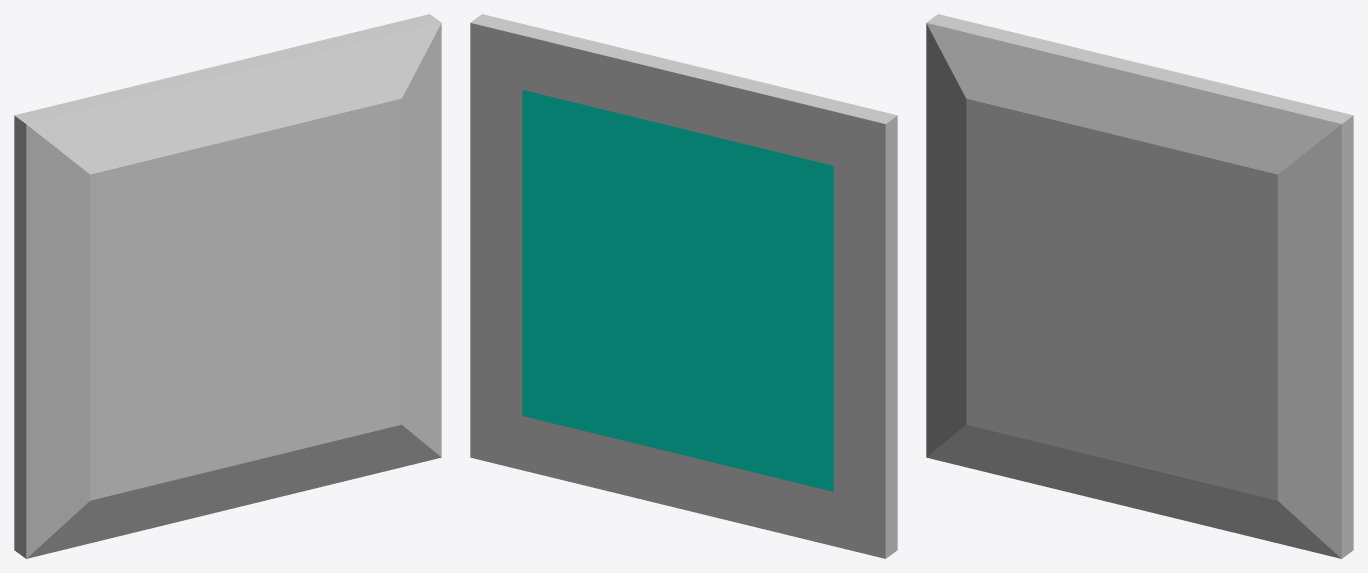
File: capteur9_1.glb
3 renders of one model, left to right at view 1: azimuth 30°, elevation 25°; view 2: azimuth 150°, elevation 25°; view 3: azimuth 330°, elevation 25°, orthographic.
Parts seen in each view (by area): view 1: Capteur 9 en 1; view 2: Capteur 9 en 1; view 3: Capteur 9 en 1.
Boxes of the visible parts, box(x1,y1,x2,y2) form: Capteur 9 en 1: box(14, 14, 441, 558); Capteur 9 en 1: box(470, 14, 897, 558); Capteur 9 en 1: box(926, 14, 1353, 558).
Bounding box in the file's own units: 0.1 × 0.1 × 0.01.
